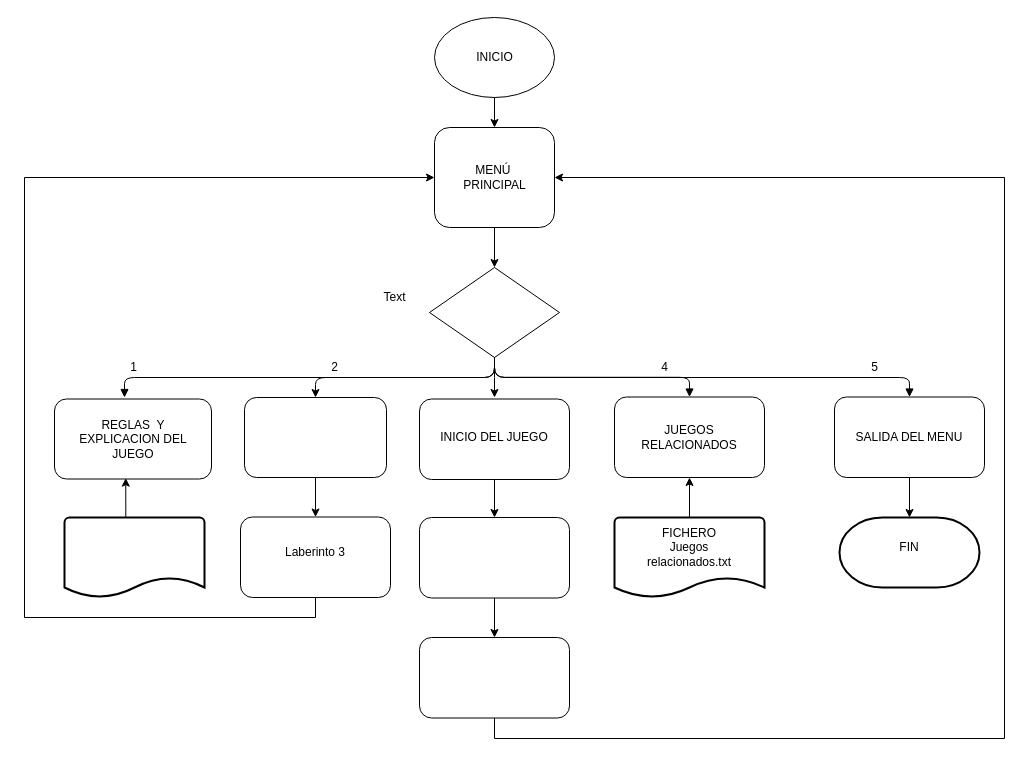
Image size: 1030x764. Some labels were removed from this diagram. The shapes that lost their labels are listed below. From the top down, each one's centre as x and y in pixels, then its label:
At [494,312]: "¿QUÉ DESEA HACER?".
At [315,437]: "MODO MULTIJUGADOR".
At [134,557]: "FICHERO Reglas.txt".
At [494,557]: "Laberinto 1 Nivel fácil".
At [494,677]: "Laberinto 2 Nivel medio".
